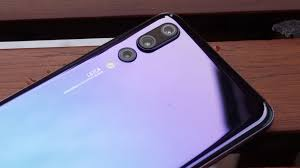huawei: (1, 12, 275, 167)
